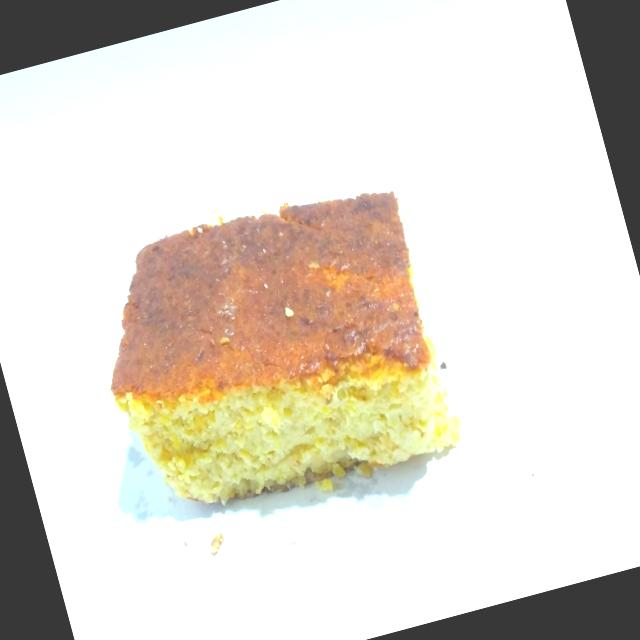Chipa_Guazu: (66, 155, 486, 546)
